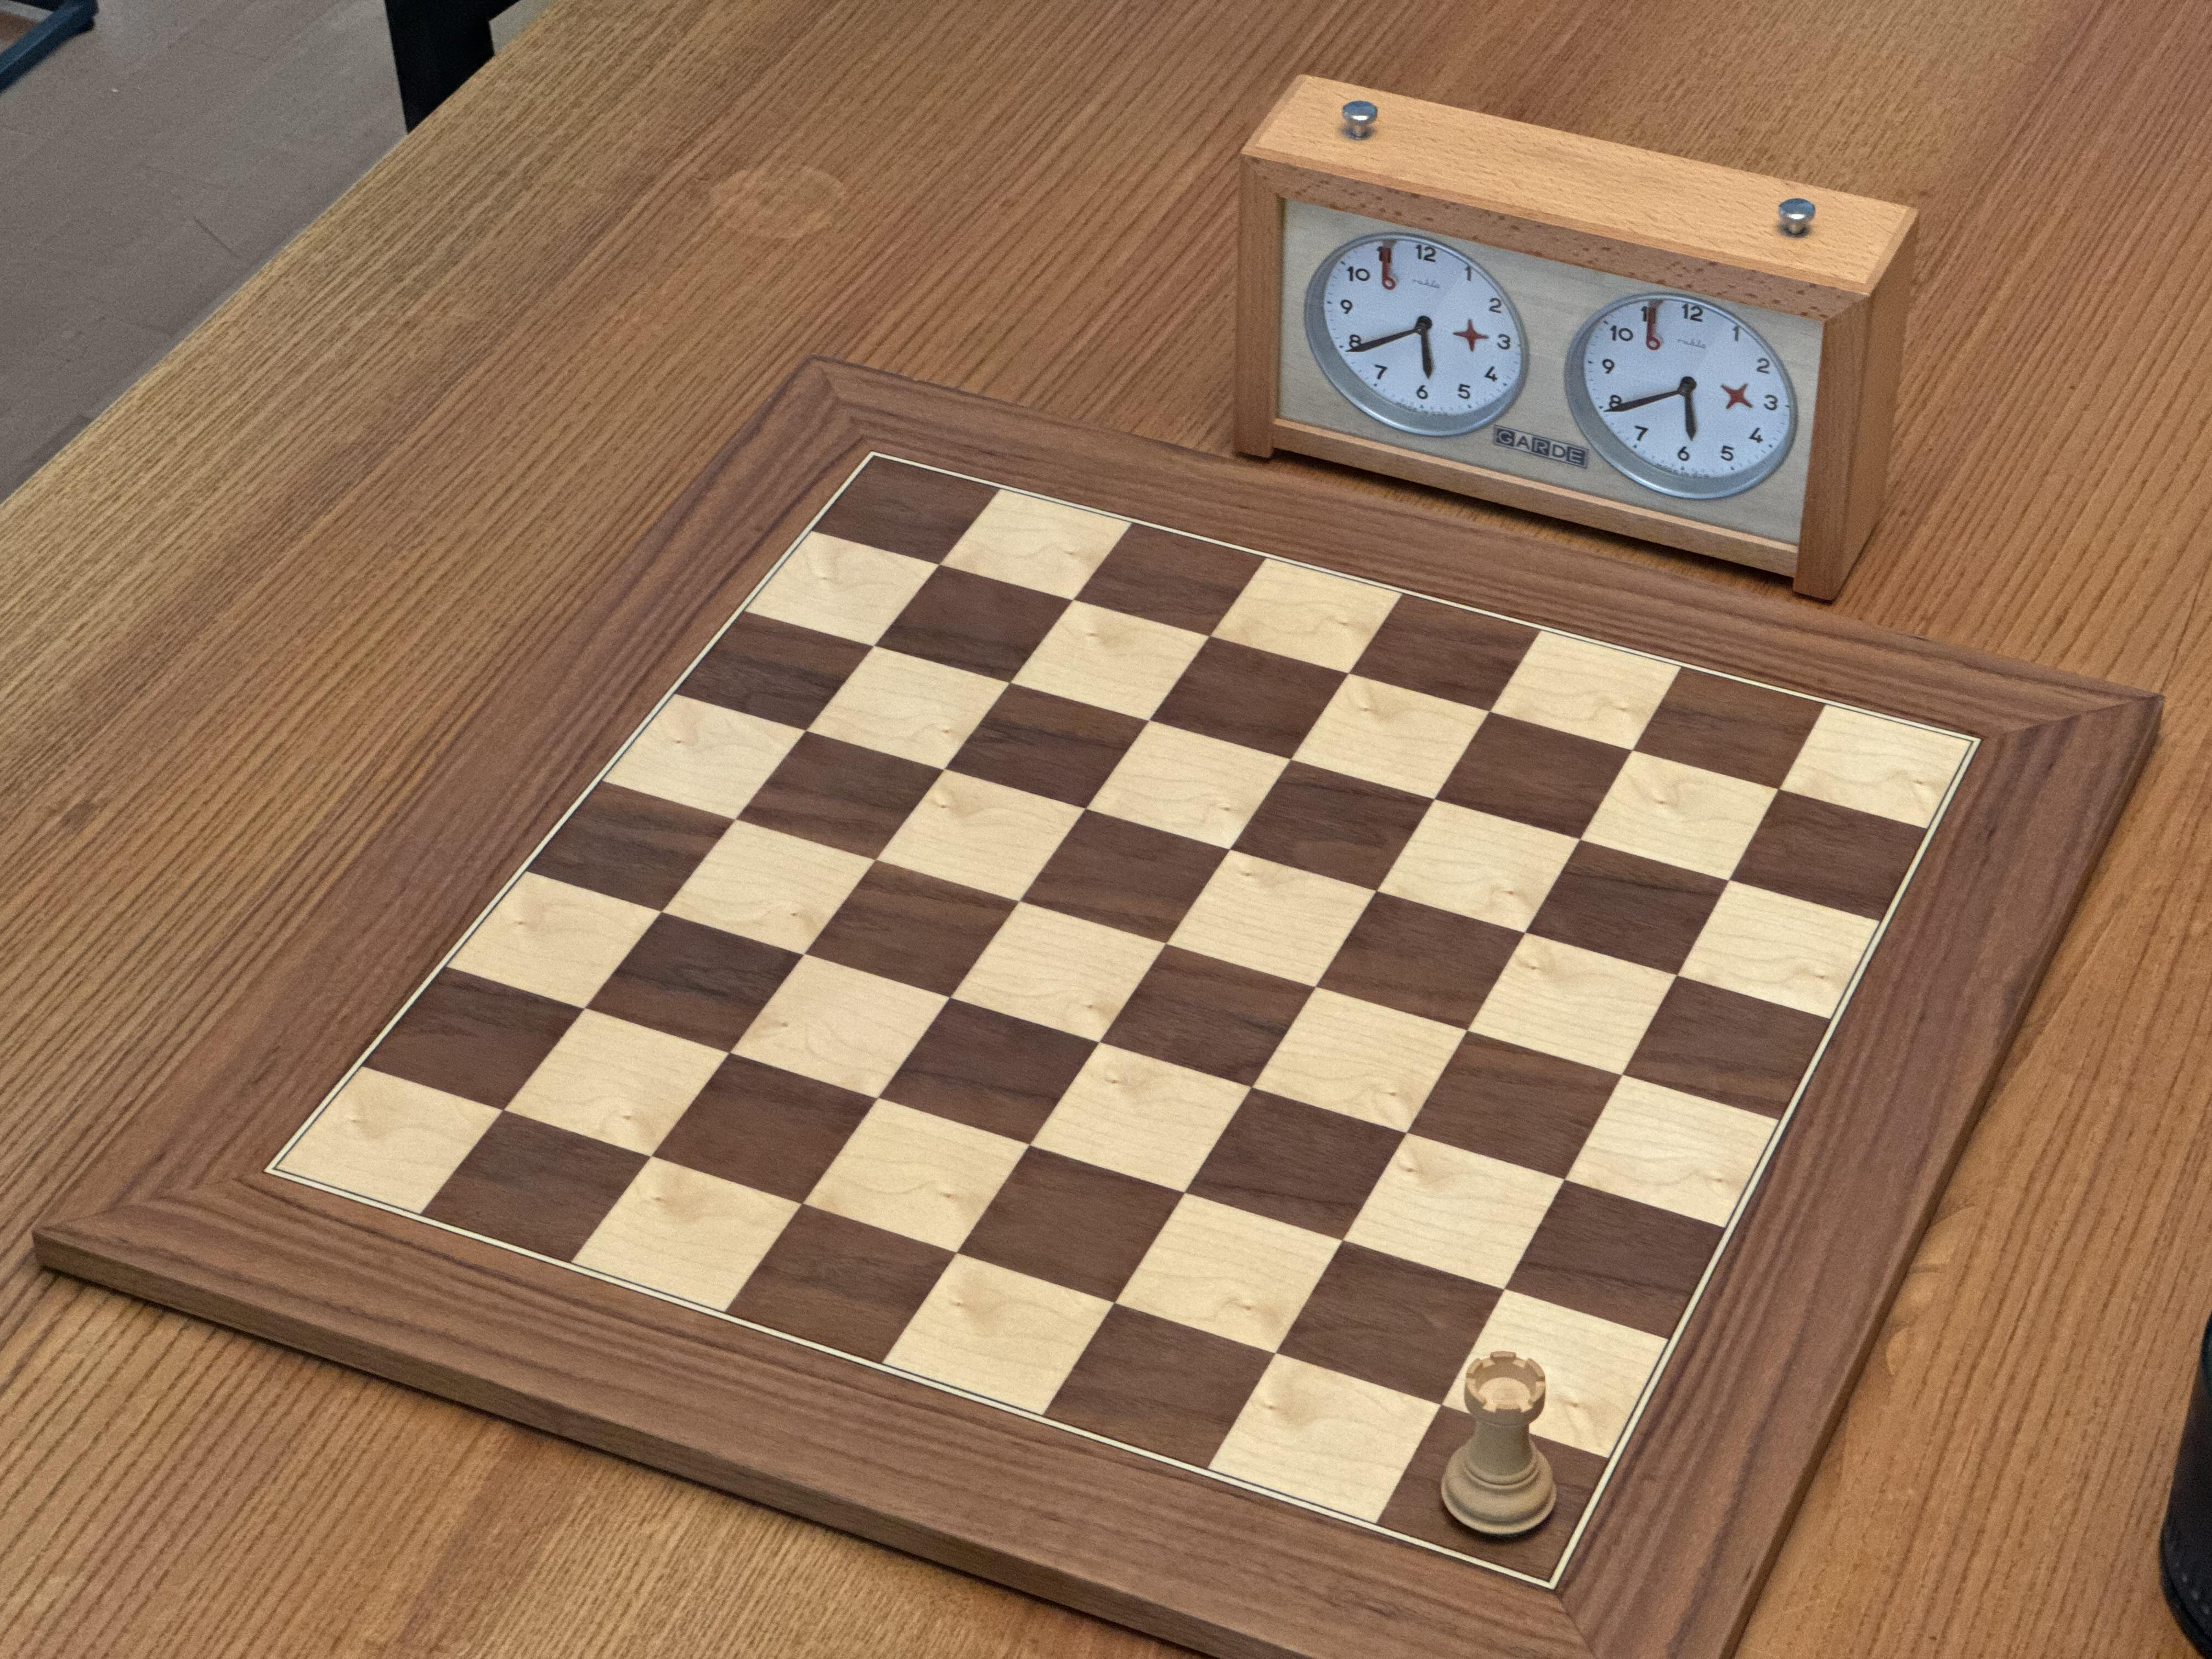White Rook: (1431, 1345, 1562, 1543)
